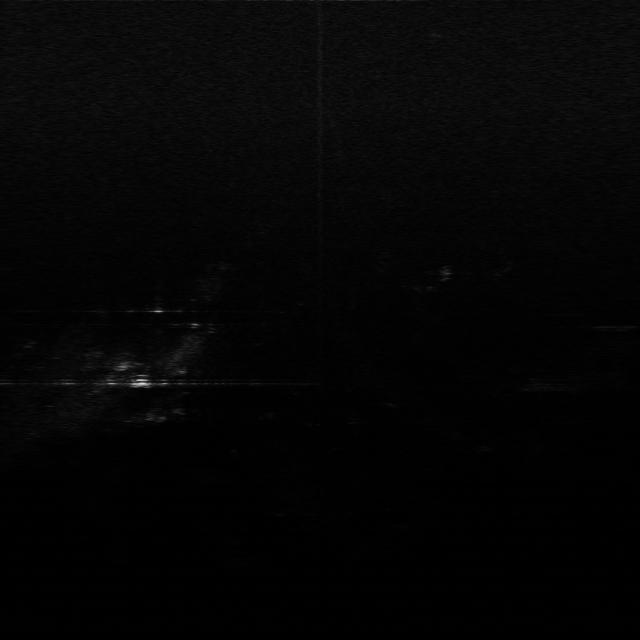rov: (127, 372, 153, 390)
